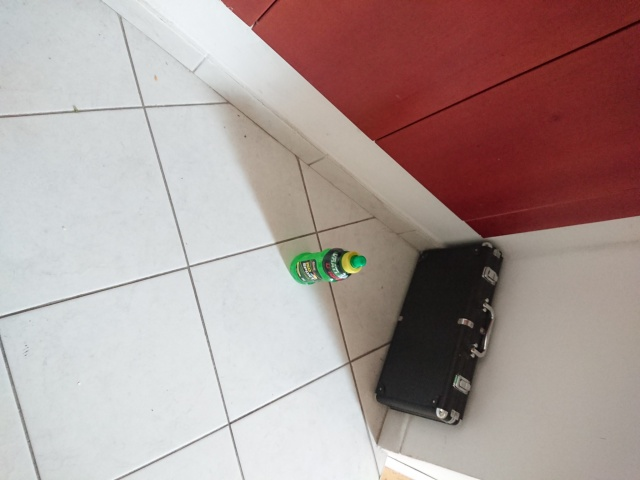Vindi Iso Sport Lemon-Grapefruit 500mL: (287, 245, 368, 287)
